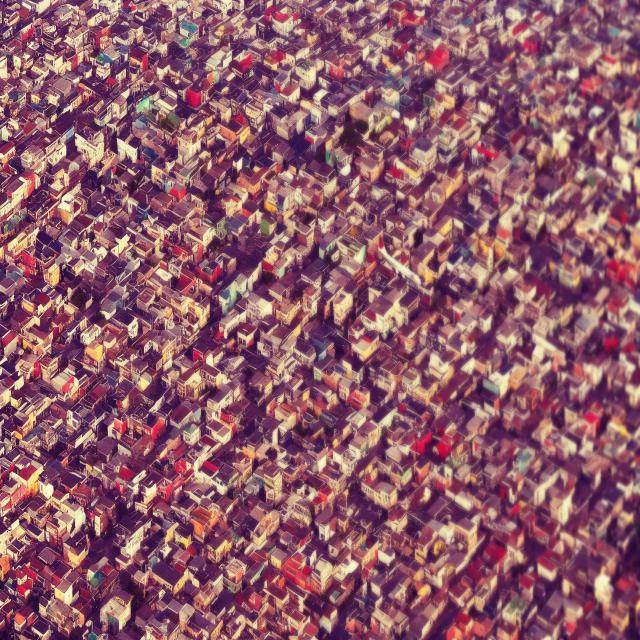airplane: (379, 235, 422, 288)
